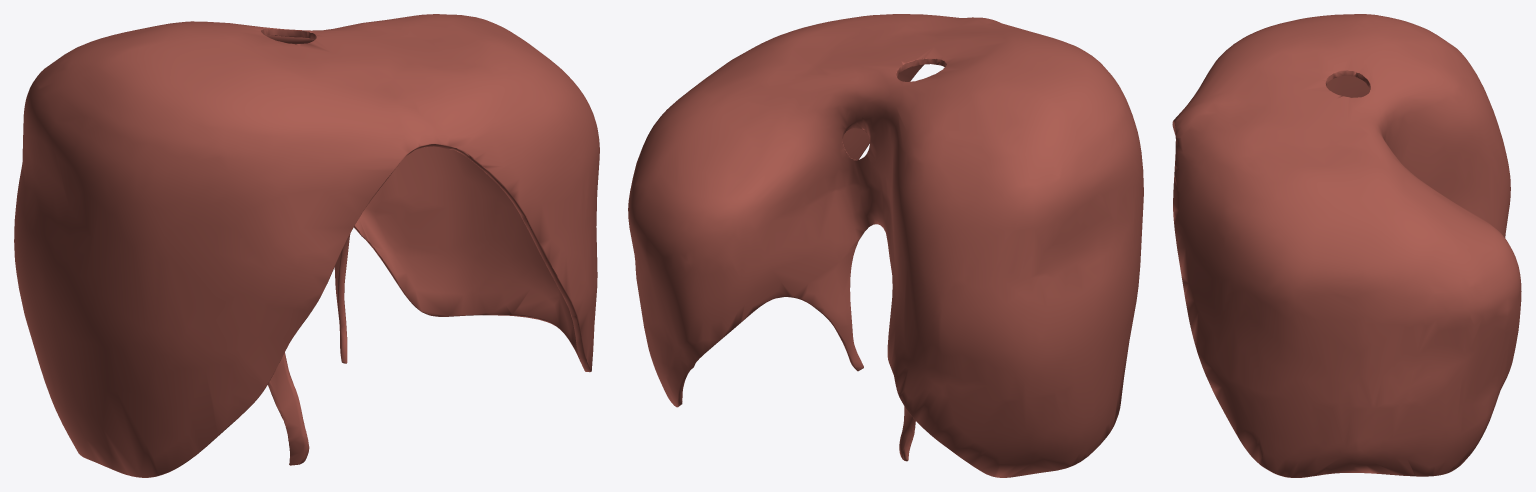
Rendered from diaphragm.glb.
The picture shows the model from 3 angles, left to right: view 1: azimuth 30°, elevation 25°; view 2: azimuth 150°, elevation 25°; view 3: azimuth 270°, elevation 25°; orthographic projection. The views are drawn at different scales.
Visible parts, largest first — view 1: diaphragm; view 2: diaphragm; view 3: diaphragm.
Boxes of the visible parts, bbox=[...] form: diaphragm: bbox=[14, 14, 599, 477]; diaphragm: bbox=[628, 14, 1143, 477]; diaphragm: bbox=[1172, 14, 1521, 477].
Size of the model in its own units: 0.2432 by 0.2067 by 0.1794.
